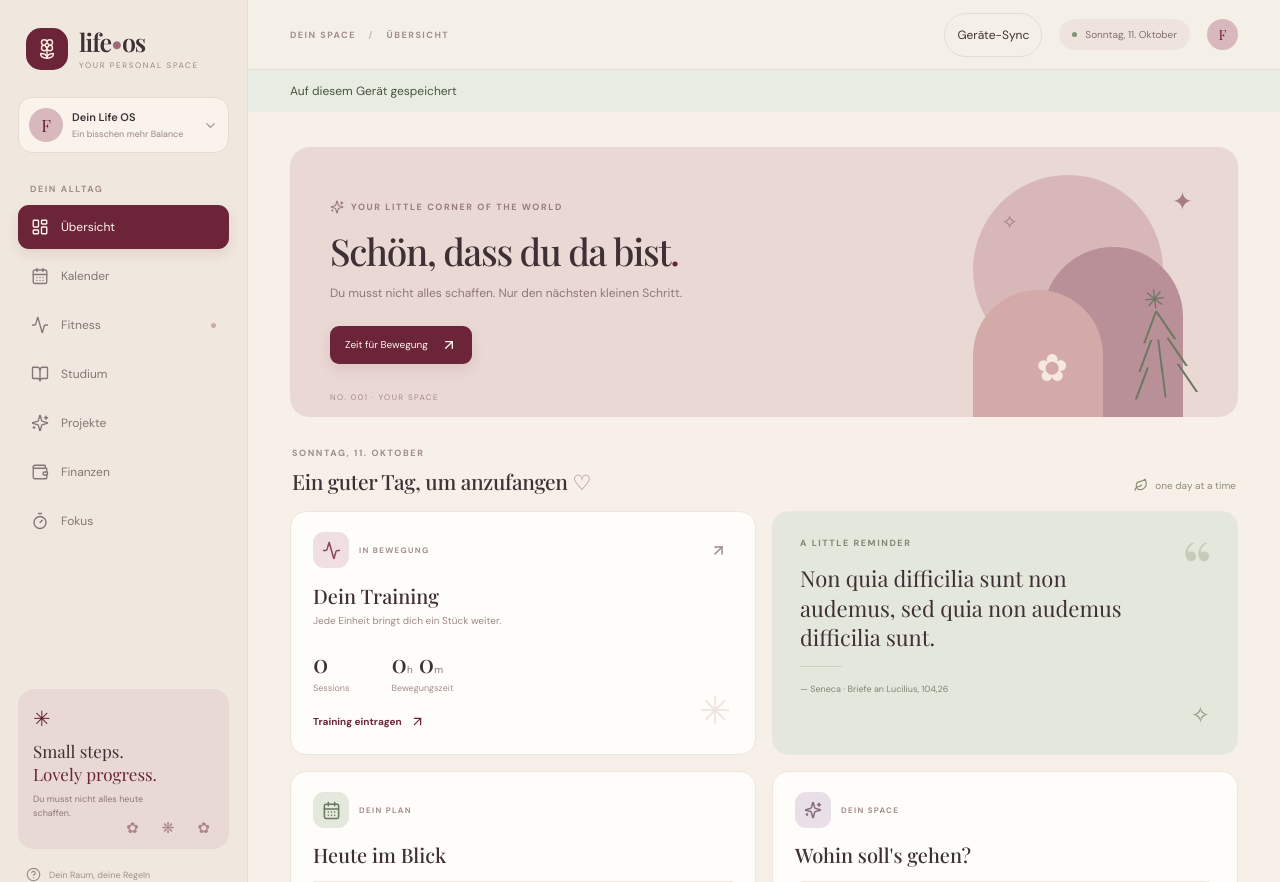
Scenario: LIFE-OS fitness tracker › shows the dashboard and navigates to fitness
Expected: the heading "Schön, dass du da bist." is shown, [330,230,682,273]
Step 1. Click the button "Fitness" → {"x": 124, "y": 325}, box [18,303,229,347]
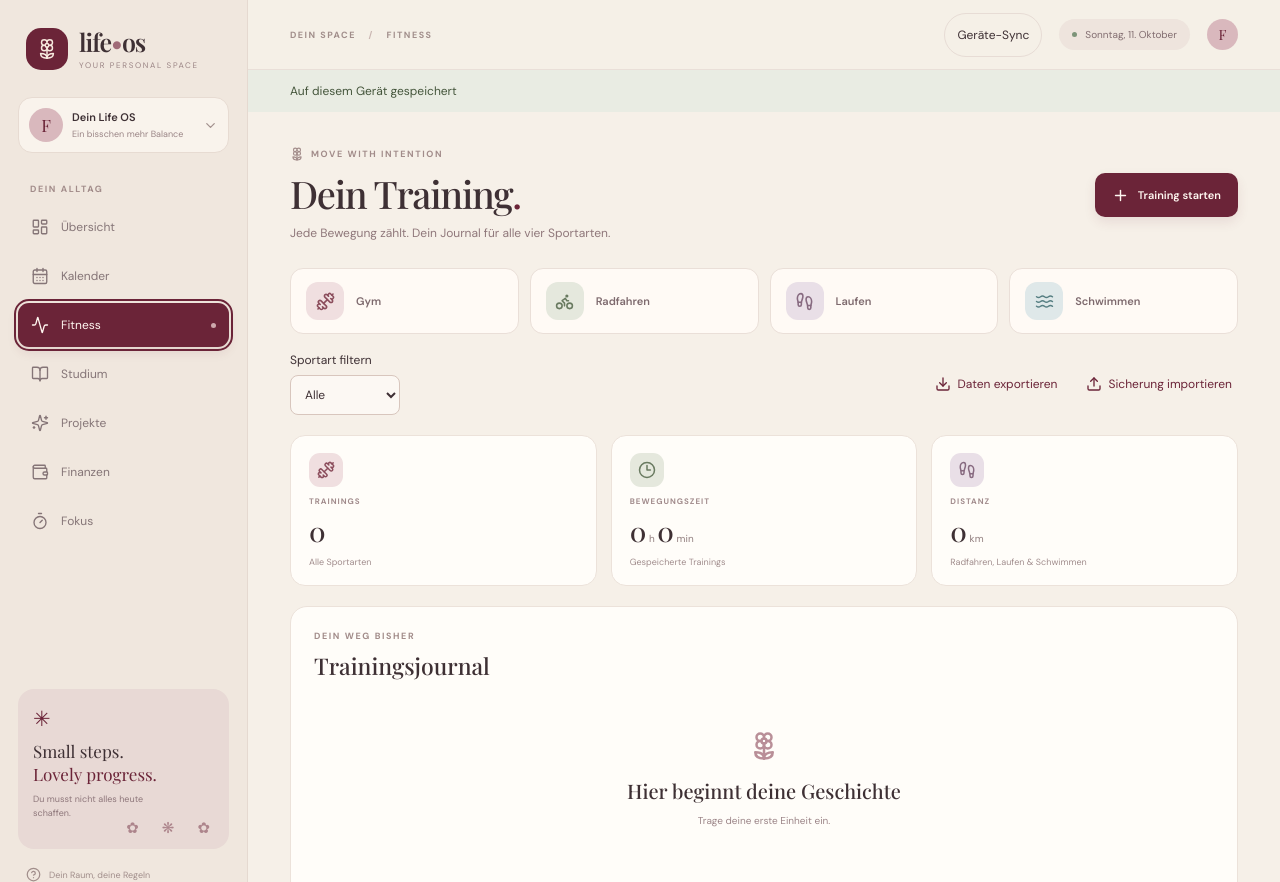
Result: the heading "Dein Training." is shown at [290,168,521,219]
